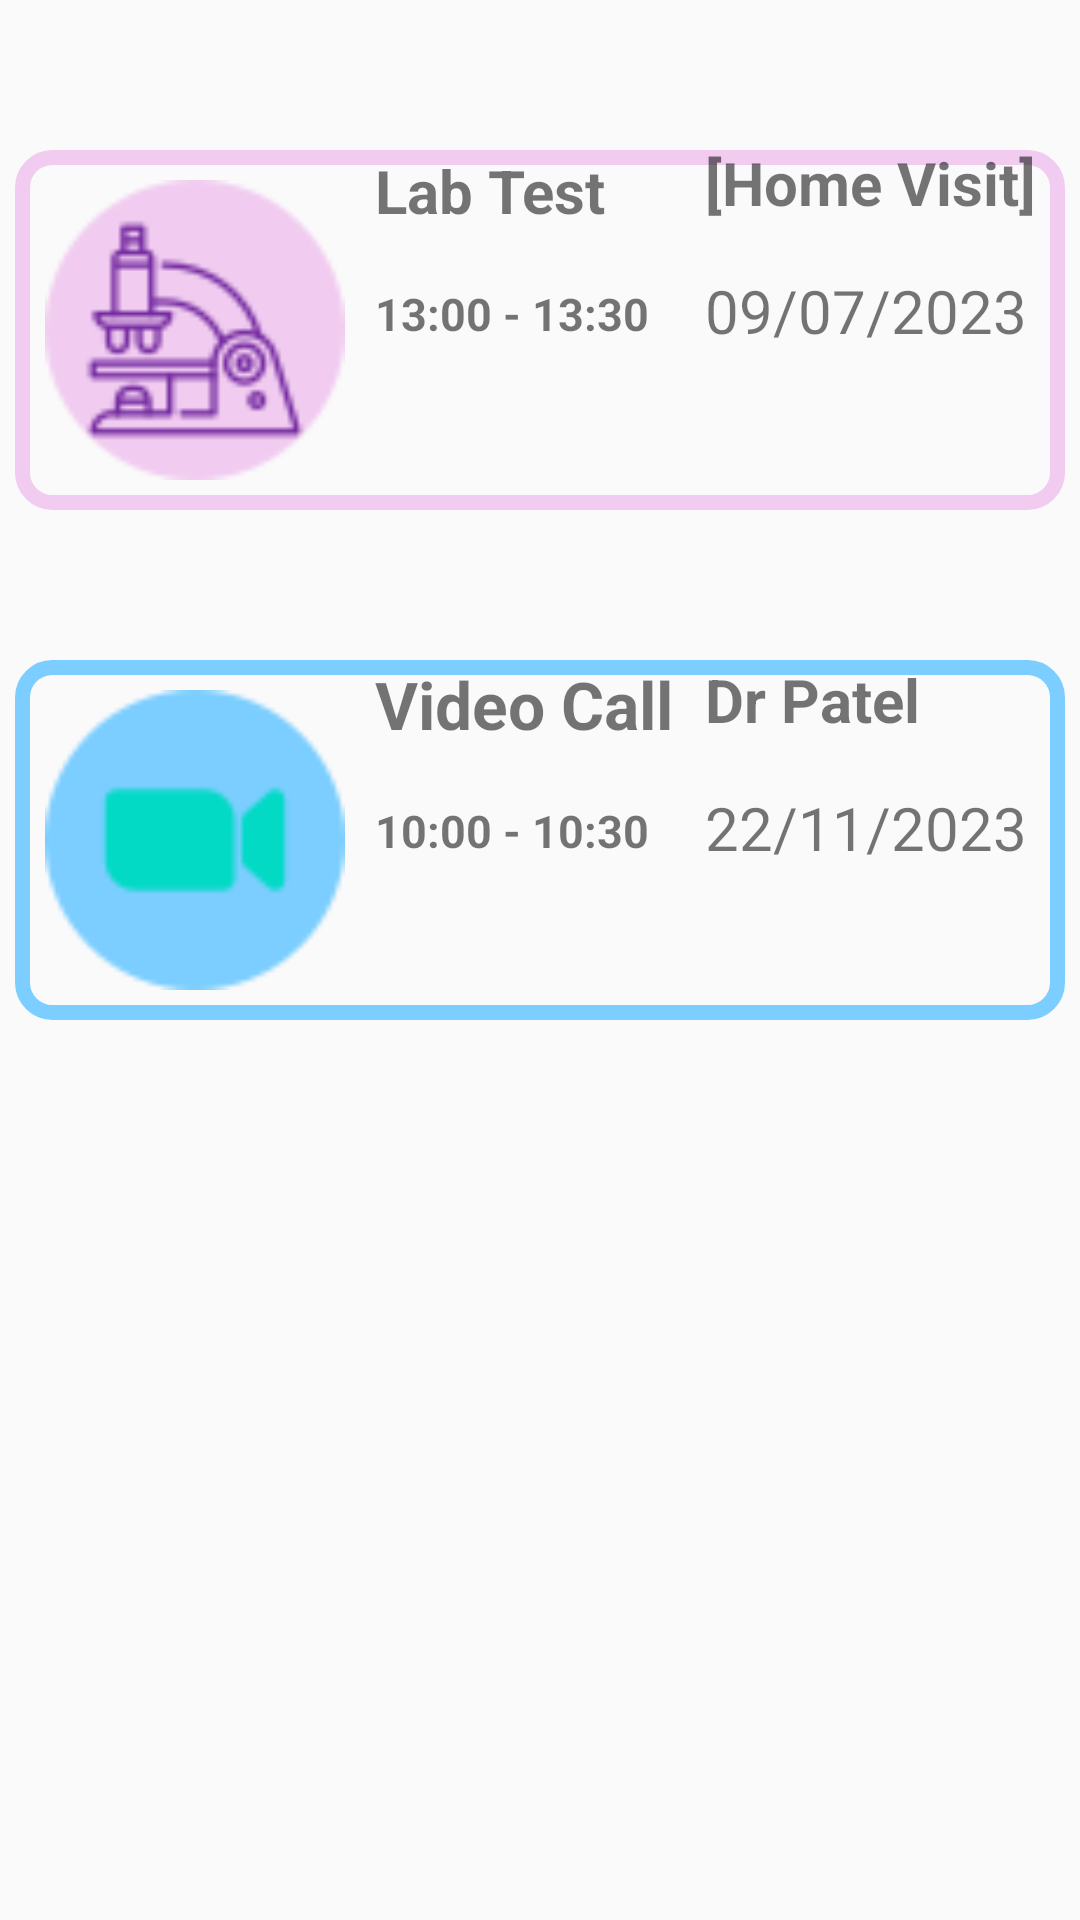

Icon click points for this 1080×1920 phone screenshot, format point (x, y):
microscope: point (195, 330)
